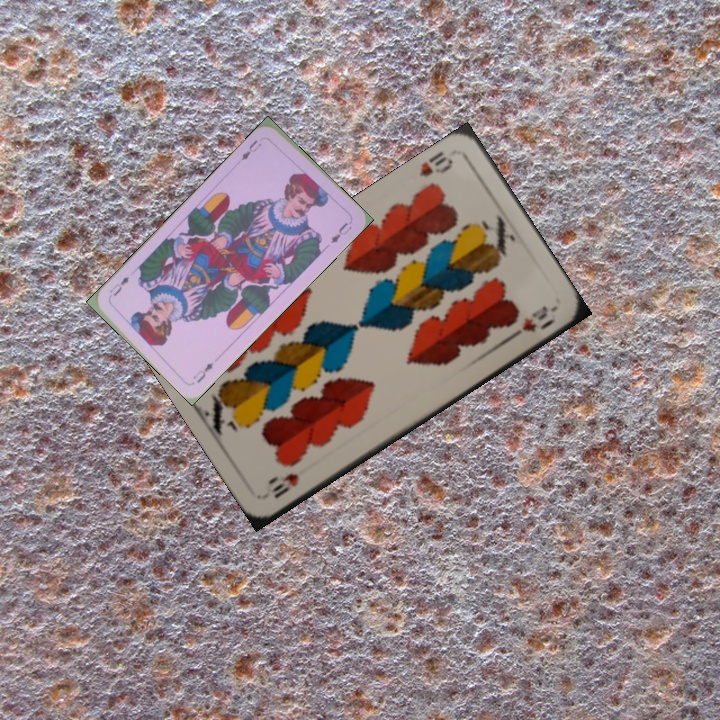EU: (188, 358, 216, 386), (237, 135, 264, 163)
H10: (414, 148, 456, 180), (268, 469, 302, 501)
